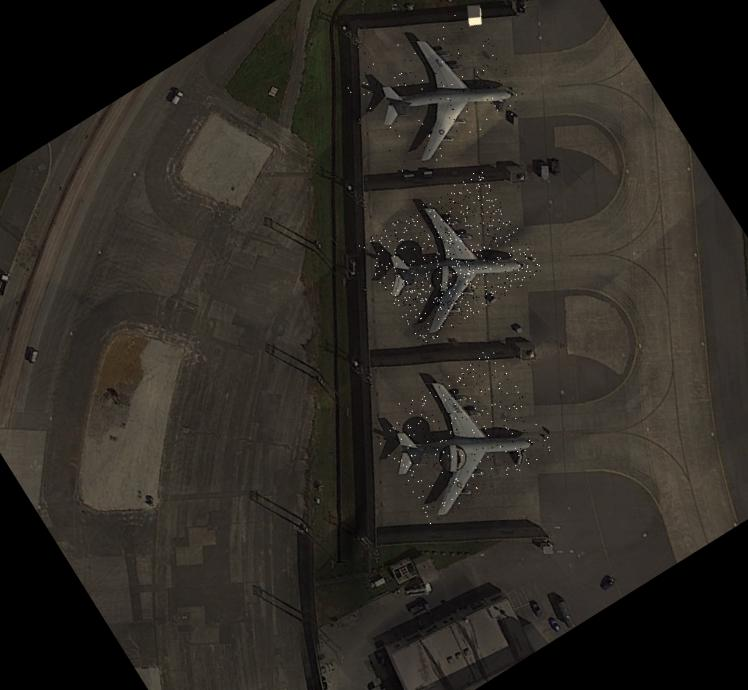A11: (342, 1, 530, 180)
A7: (356, 168, 545, 348), (367, 345, 555, 525)
